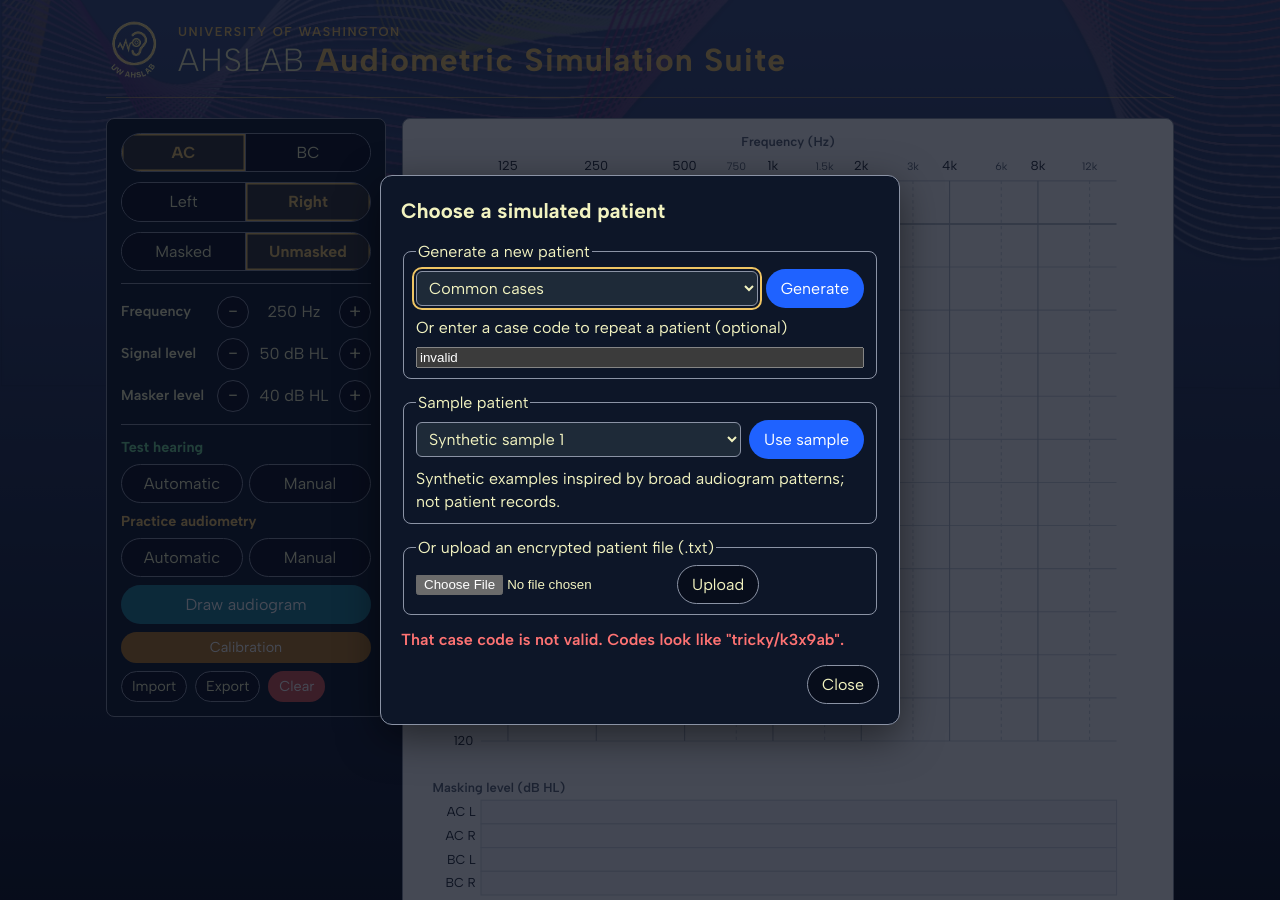
automatic practice patient selection › keeps a generated patient for multiple measurements and reviews the same session
Earlier steps of the test are not shown.
Check: the message shows "not valid", box [401, 630, 844, 649]
Replace the text in the field labelled "Or enter a case code to repeat a patient (optional)" with "tricky/s0" at (640, 358), box [416, 347, 864, 368]
Click the button "Generate" at (815, 288), box [766, 269, 864, 308]
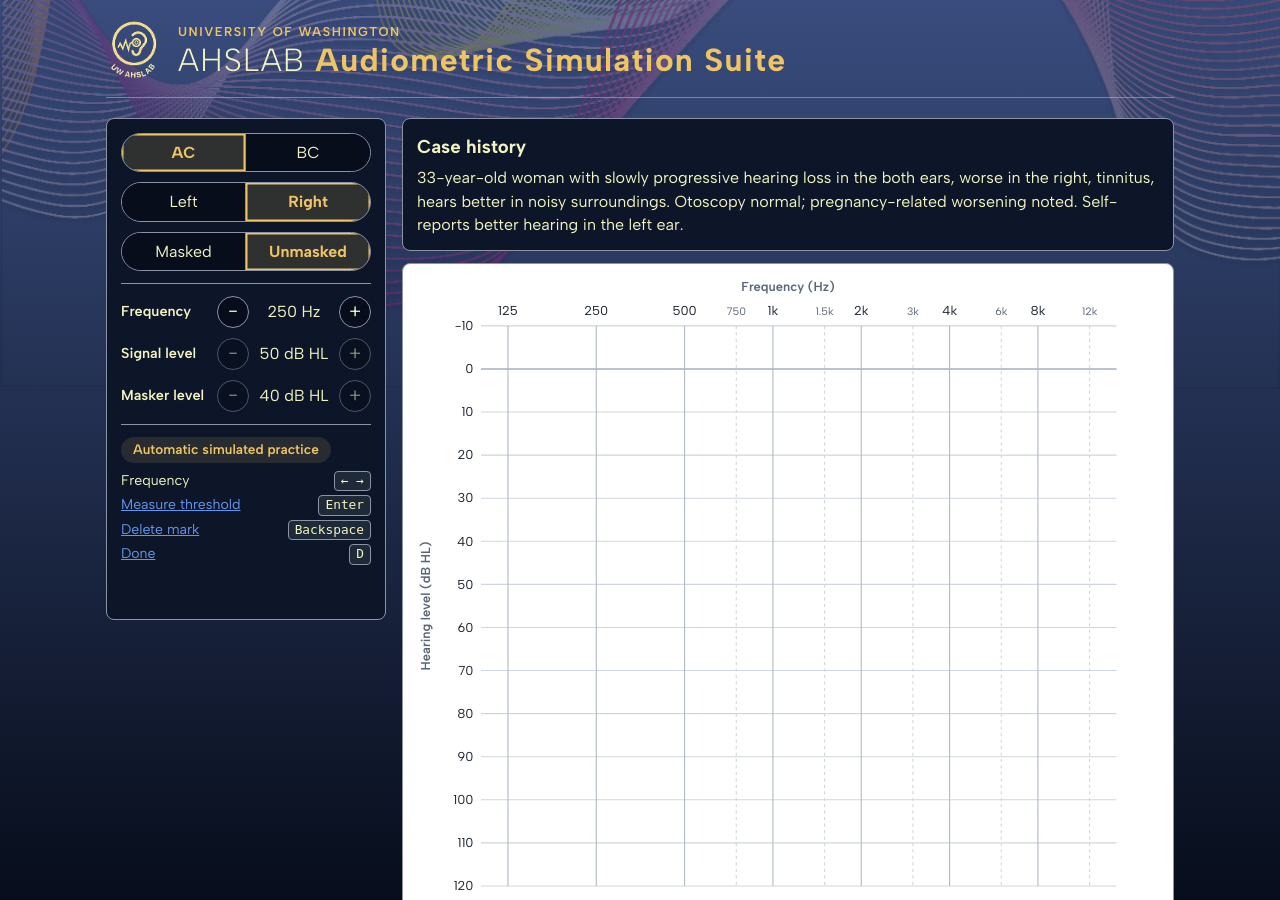
Check: the button named "Increase Signal level" is disabled, box [339, 338, 371, 370]
Press Enter
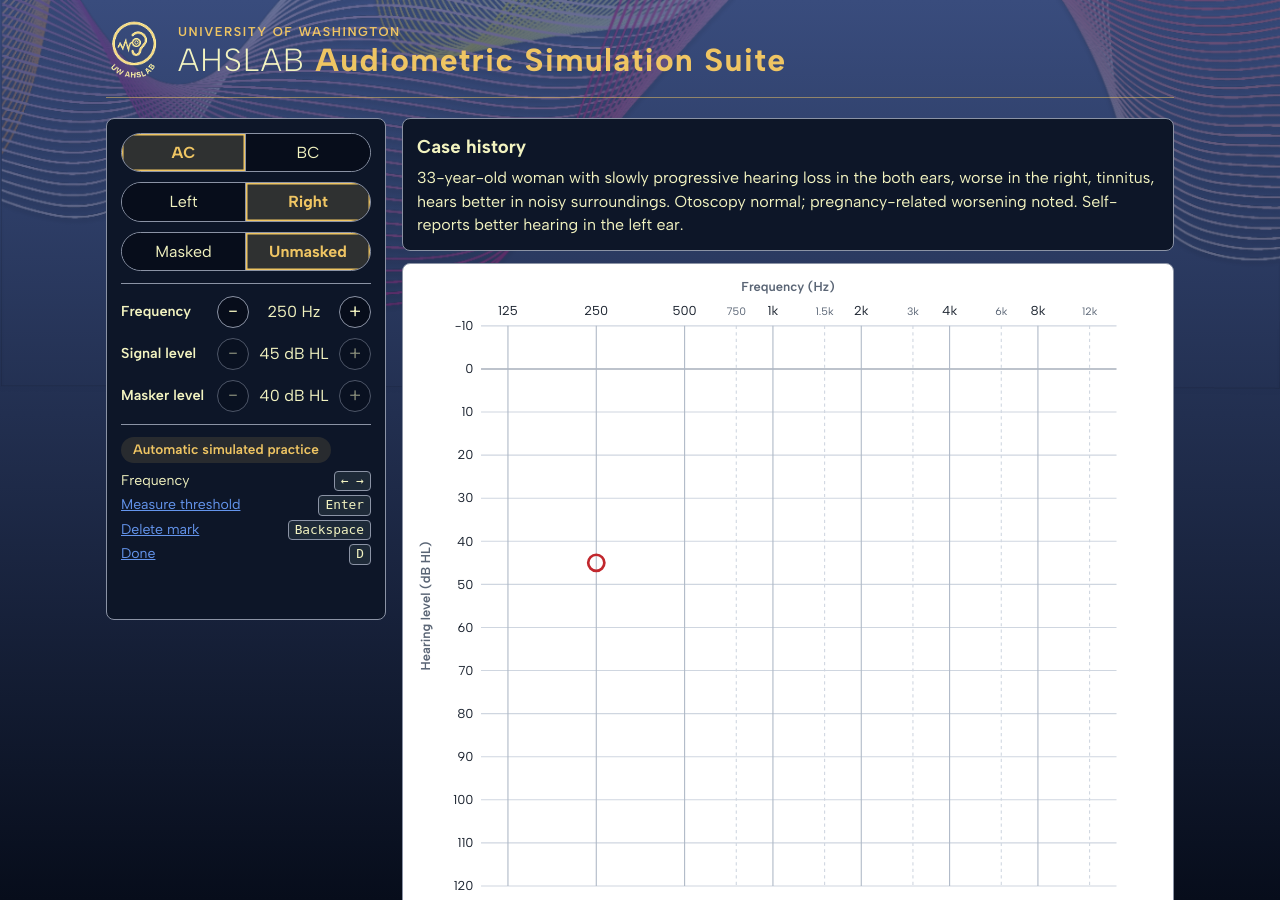
Click the button named "Increase Frequency" at (355, 312), box [339, 296, 371, 328]
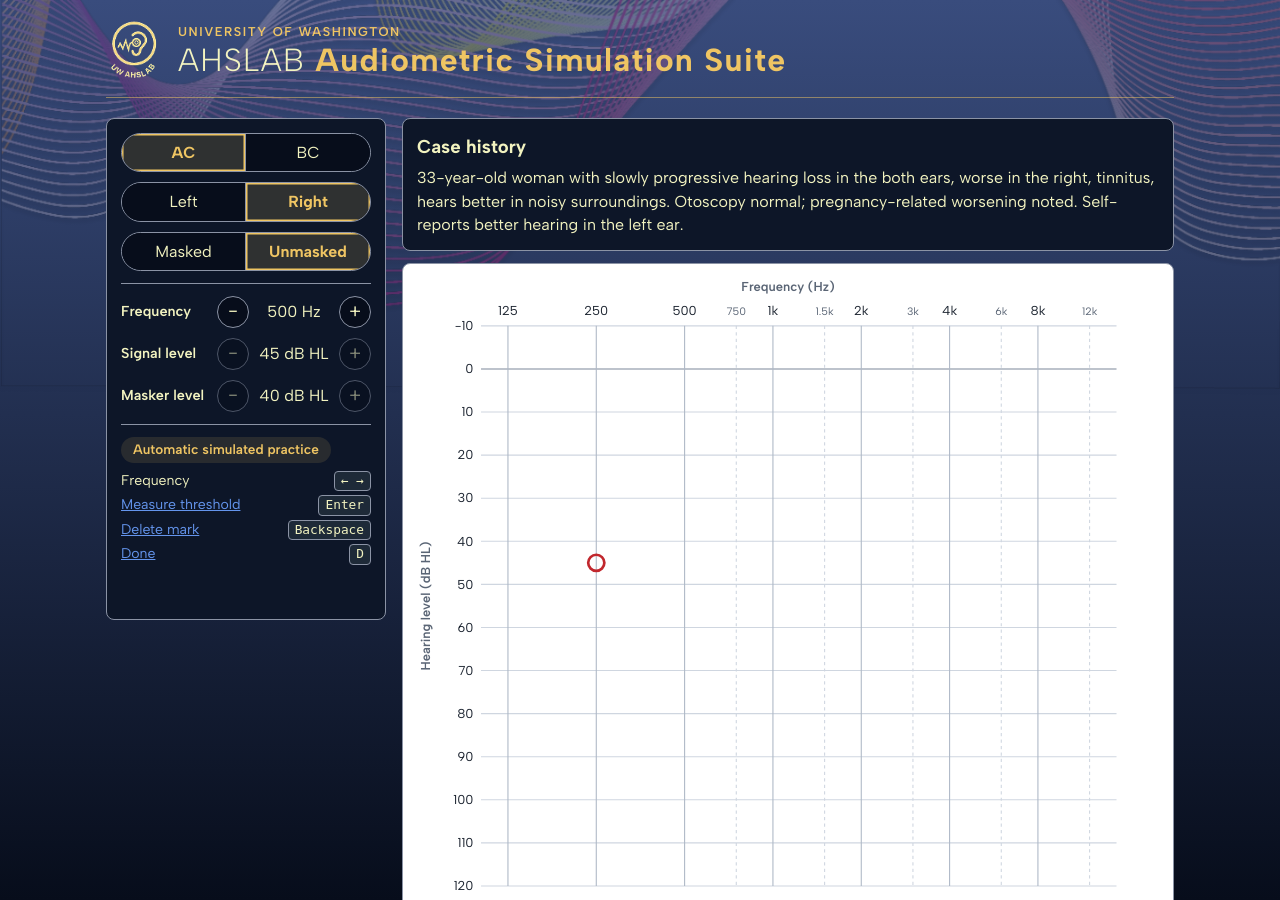
Click the button "Measure threshold" at (181, 505), box [121, 495, 240, 516]
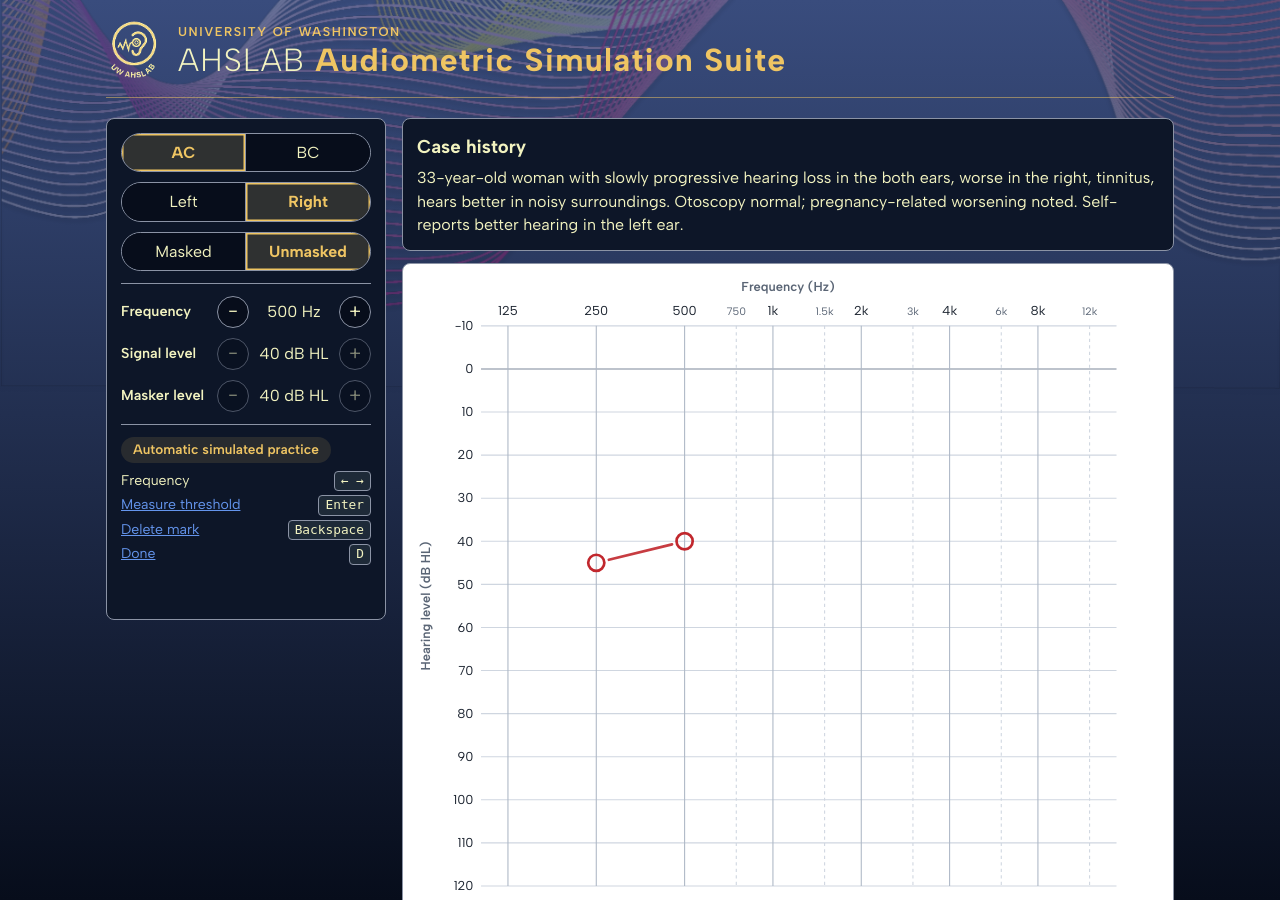
Click the button "Done" at (138, 554), box [121, 544, 155, 565]
(page scrolled)
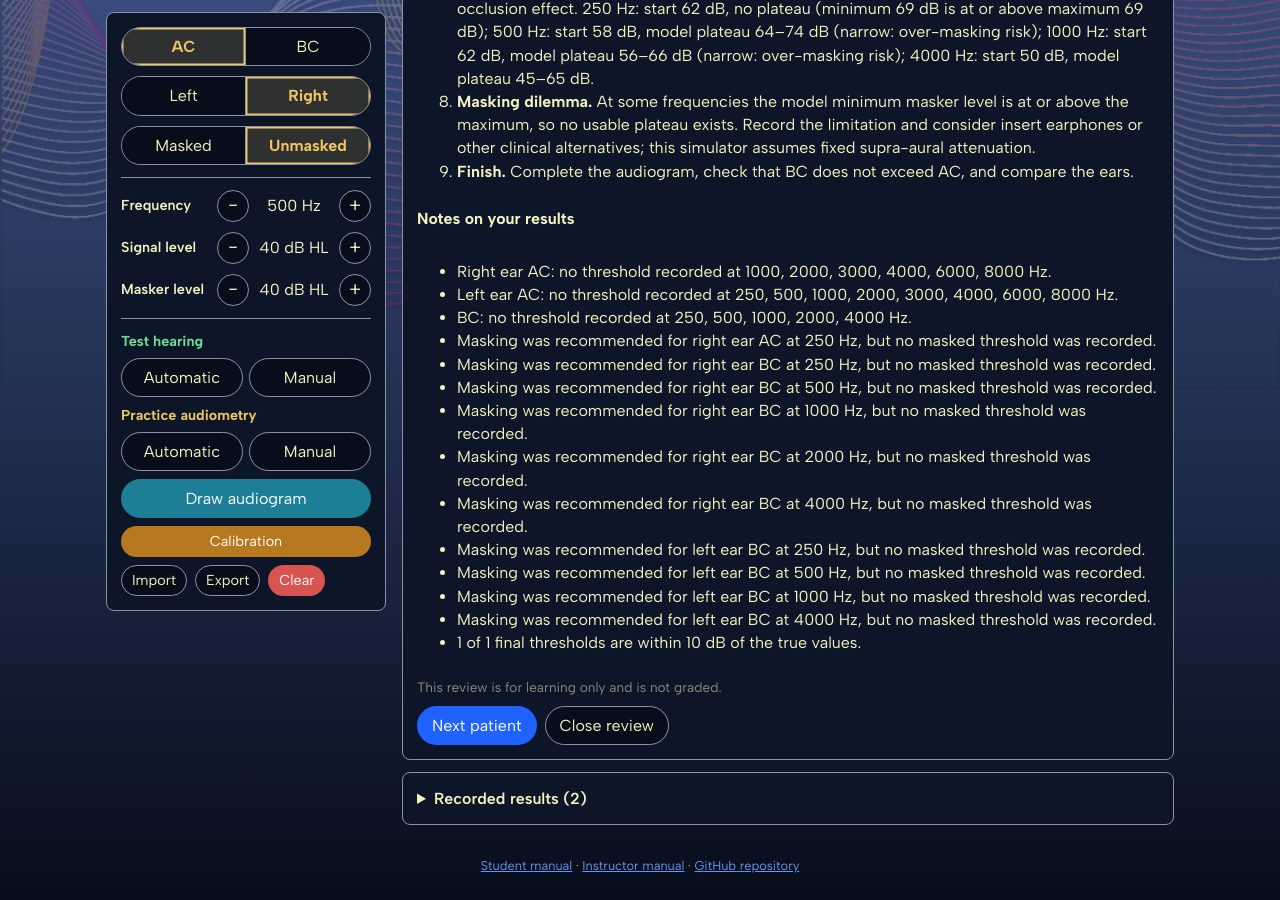
Click the button "Next patient" at (477, 725), box [417, 706, 536, 745]
(page scrolled)
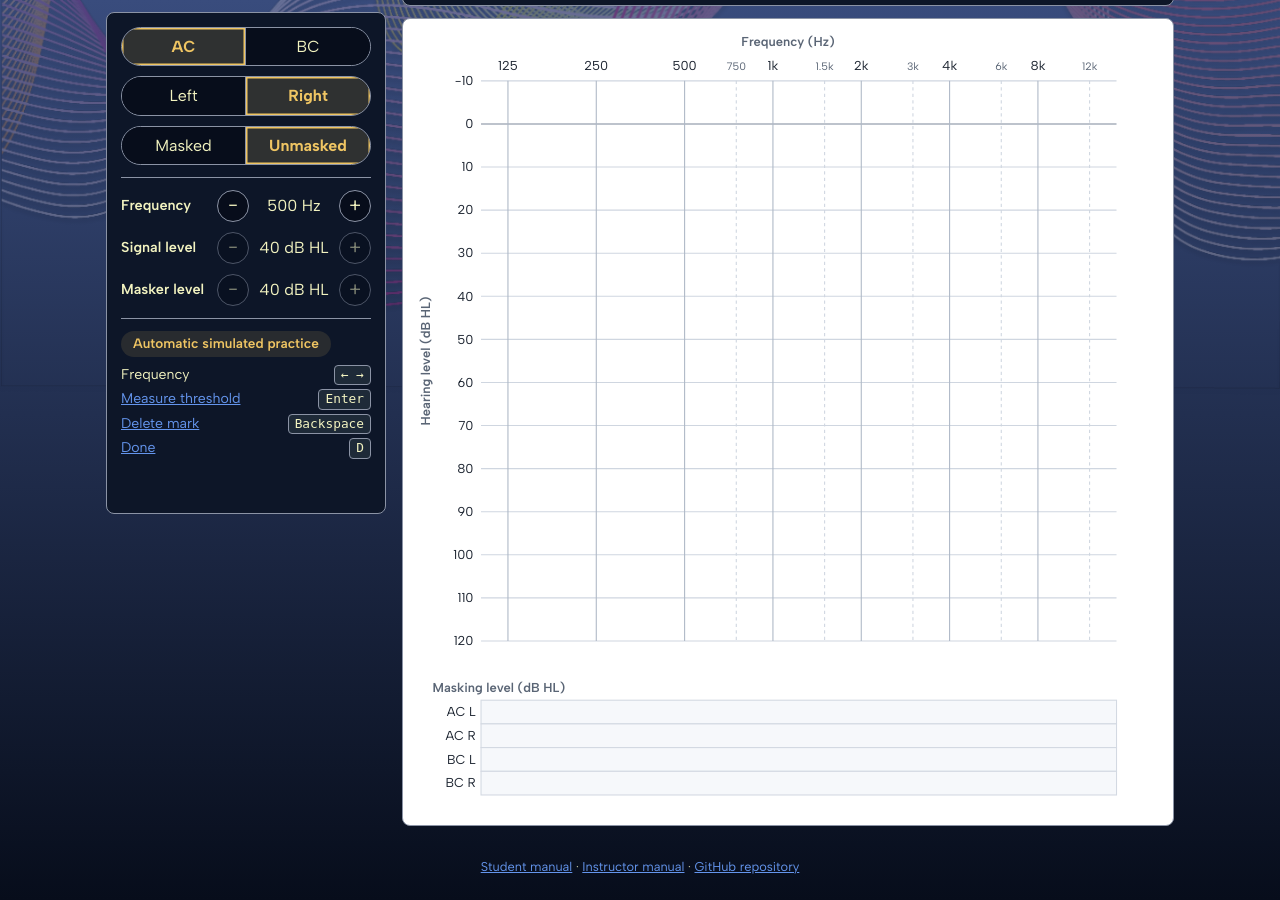
Check: the button "Measure threshold" is shown, box [121, 389, 240, 409]
Check: the picture named "Audiogram with 0 recorded thresholds" is shown, box [411, 27, 1165, 816]
